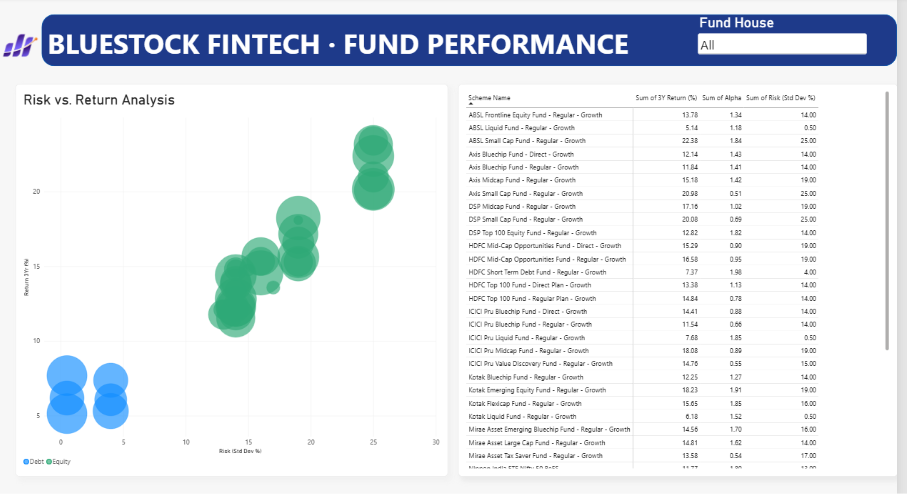

The dashboard page shown, as its layout file describes it:
{"tool":"powerbi","page":{"name":"Page 2","canvas":[1920,1080],"ordinal":1},"visuals":[{"type":"shape","box":[93.6,36.2,1826.1,110.7],"z":0},{"type":"textbox","box":[105.4,56.8,1813.5,108.1],"z":1000},{"type":"slicer","fields":{"Values":["dim_fund.fund_house"]},"box":[1489.2,35.1,370.3,89.2],"z":2000},{"type":"scatterChart","title":"Risk vs. Return Analysis","fields":{"Category":["dim_fund.scheme_name"],"Series":["dim_fund.category"],"Size":["Sum(fact_performance.aum_crore)"],"X":["Sum(fact_performance.std_dev_ann_pct)"],"Y":["Sum(fact_performance.return_3yr_pct)"]},"box":[37.5,185,922.5,837.5],"z":3000},{"type":"pivotTable","title":"Scheme Name","fields":{"Rows":["dim_fund.scheme_name"],"Values":["Sum(fact_performance.return_3yr_pct)","Sum(fact_performance.alpha)","Sum(fact_performance.std_dev_ann_pct)"]},"box":[982.5,185,937.5,837.5],"z":4000},{"type":"image","box":[0,57.5,93.6,89.4],"z":4001}]}

Visuals, with their boxes on the page's 1920x1080 design canvas (x1, y1, x2, y2). These are canvas units, not pixel positions in the 907x494 screenshot, which may show the page scaled, cropped or inside an application window:
shape: x1=94, y1=36, x2=1920, y2=147
textbox: x1=105, y1=57, x2=1919, y2=165
slicer - dim_fund.fund_house: x1=1489, y1=35, x2=1860, y2=124
"Risk vs. Return Analysis" scatterChart: x1=38, y1=185, x2=960, y2=1022
"Scheme Name" pivotTable: x1=982, y1=185, x2=1920, y2=1022
image: x1=0, y1=58, x2=94, y2=147
